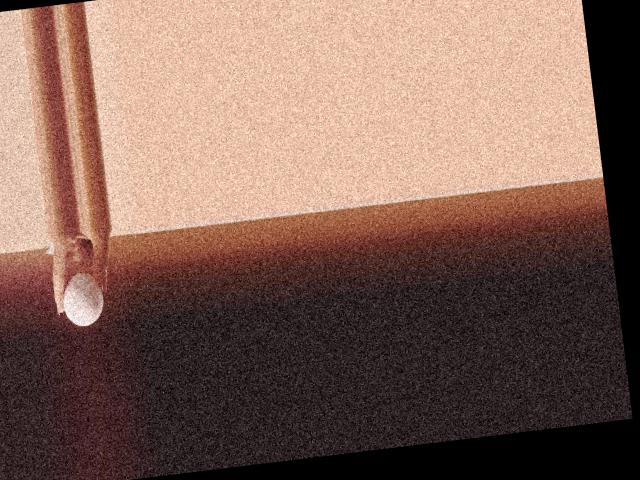egg: (59, 269, 106, 328)
